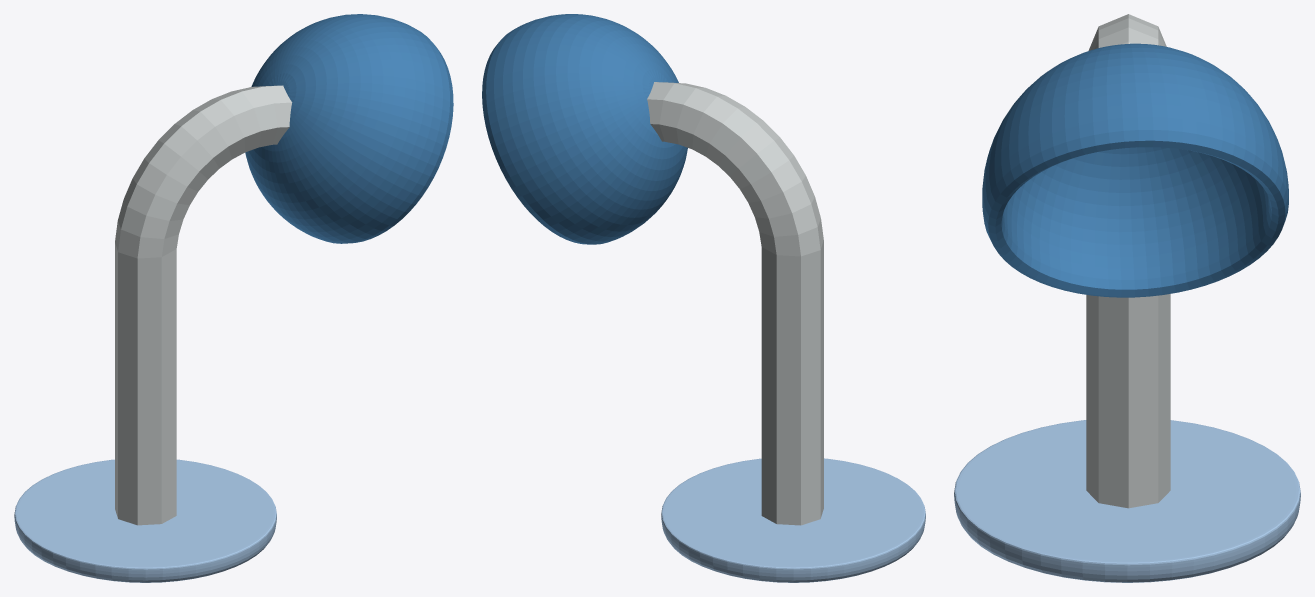
File: lamp.fbx
3 views of the same model, side by side, from view 1: azimuth 30°, elevation 25°; view 2: azimuth 150°, elevation 25°; view 3: azimuth 270°, elevation 25° (orthographic). The views are drawn at different scales.
Parts seen in each view (by area): view 1: Sphere, Cylinder.001, Cylinder; view 2: Sphere, Cylinder.001, Cylinder; view 3: Sphere, Cylinder, Cylinder.001.
Part boxes in pixels (x1,y1,x2,y2): Sphere: (245,14,453,243); Cylinder.001: (115,85,292,525); Cylinder: (14,459,276,582); Sphere: (482,14,687,244); Cylinder.001: (647,82,823,525); Cylinder: (661,458,925,582); Sphere: (982,43,1288,297); Cylinder: (954,420,1300,582); Cylinder.001: (1086,14,1170,508).
Bounding box in the file's own units: 748 × 811 × 427.
